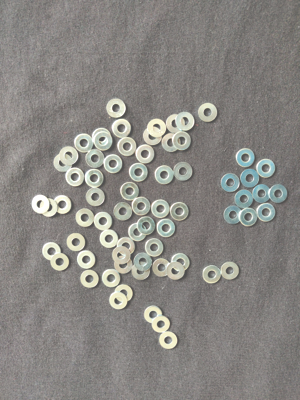circle: (74, 133, 94, 153), (156, 219, 176, 239), (199, 103, 218, 123), (112, 119, 131, 139), (236, 149, 256, 168), (257, 159, 276, 179), (241, 169, 260, 189), (174, 162, 193, 182), (162, 133, 181, 153), (118, 137, 137, 157), (129, 163, 149, 182), (132, 197, 151, 217), (171, 253, 191, 272), (59, 146, 79, 165), (107, 99, 126, 118), (176, 112, 195, 131), (167, 114, 186, 133), (148, 119, 167, 138), (221, 174, 240, 193), (224, 206, 243, 225), (257, 204, 276, 223), (155, 166, 174, 185), (136, 145, 155, 164), (173, 132, 192, 151), (76, 209, 95, 228), (94, 132, 113, 151), (171, 203, 190, 222), (137, 217, 156, 236), (94, 212, 113, 231), (100, 230, 119, 249), (114, 256, 133, 275), (145, 239, 164, 258), (203, 266, 222, 285), (134, 253, 153, 272), (132, 262, 151, 281), (81, 270, 100, 289), (77, 251, 96, 270), (51, 253, 70, 272), (86, 188, 105, 207), (104, 155, 123, 174), (86, 149, 105, 168), (66, 168, 85, 187), (235, 190, 254, 209), (253, 184, 271, 204), (93, 128, 111, 148), (42, 243, 62, 261), (152, 259, 172, 277), (144, 127, 162, 146), (270, 185, 288, 204), (240, 208, 258, 227), (53, 196, 72, 214), (128, 224, 147, 242), (114, 203, 133, 221), (112, 247, 131, 265), (221, 262, 239, 281), (102, 270, 121, 288), (67, 234, 86, 252), (86, 169, 104, 188), (109, 292, 128, 310), (145, 306, 164, 324), (160, 332, 179, 350), (167, 262, 186, 280), (32, 196, 50, 214), (121, 183, 139, 201), (152, 200, 170, 218), (117, 238, 135, 256), (54, 154, 72, 172), (40, 199, 58, 217), (115, 285, 133, 303), (152, 316, 171, 333)
